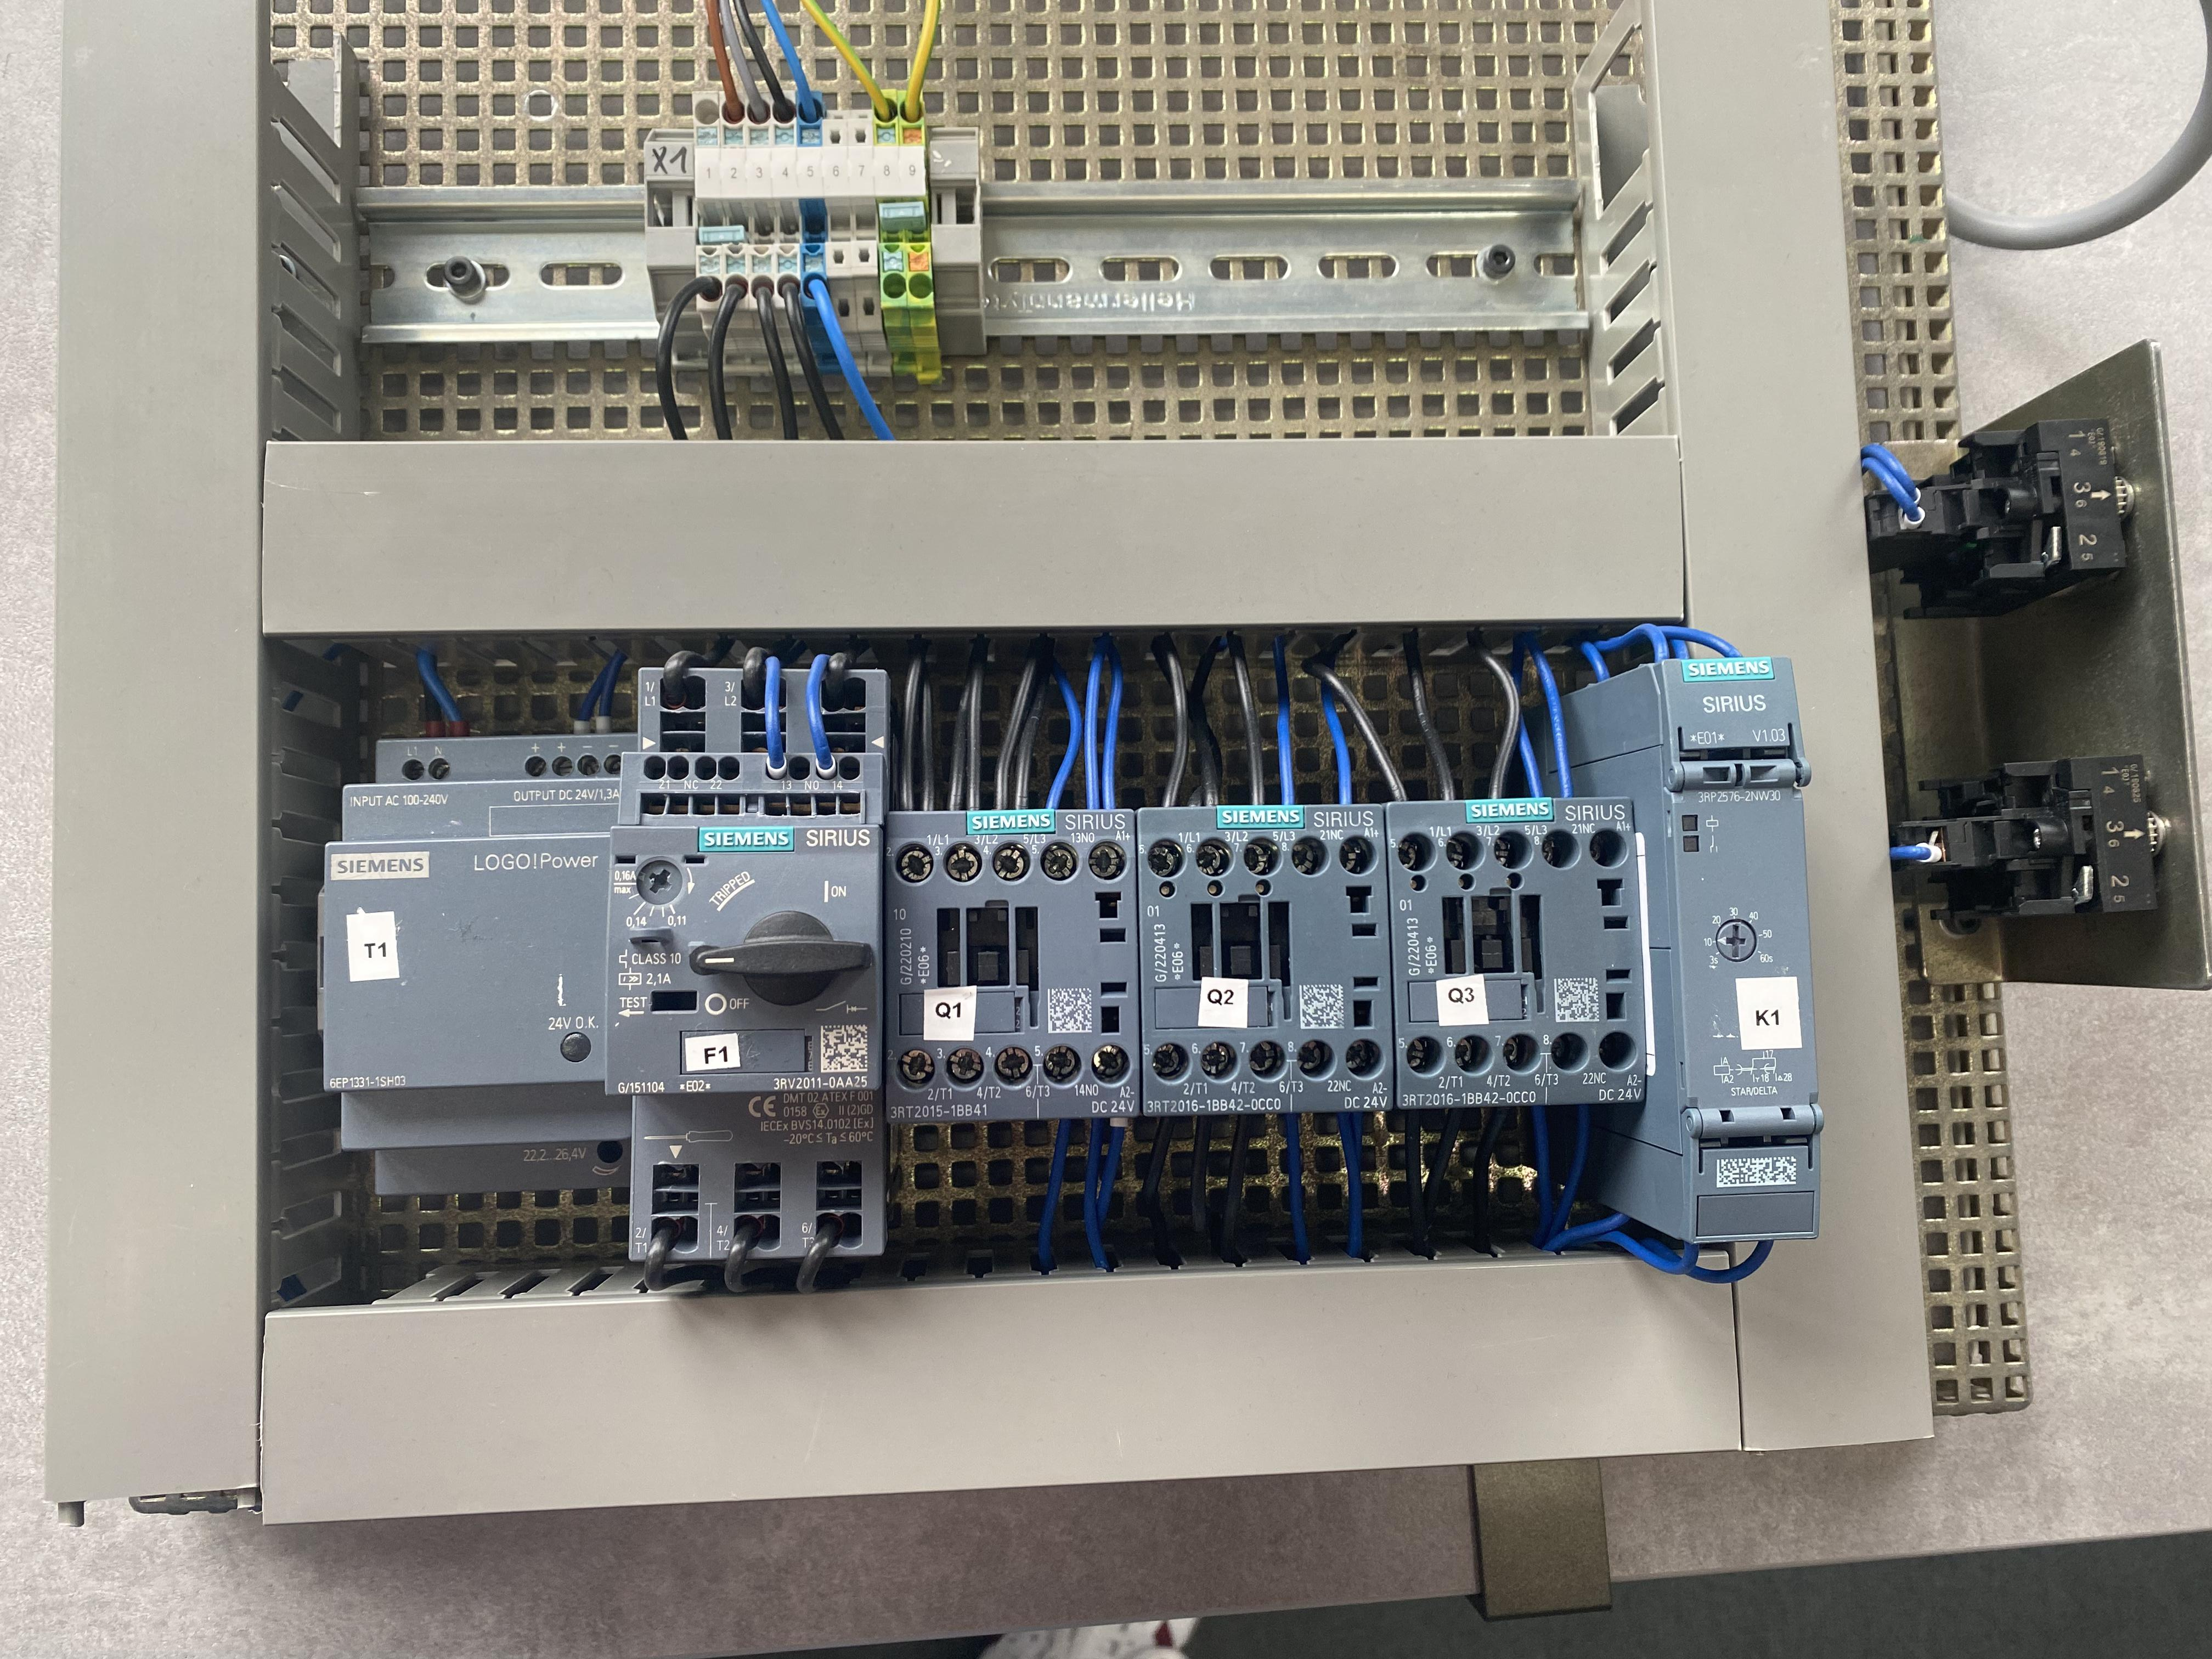F1: (604, 667, 885, 1263)
K1: (1662, 655, 1811, 1244)
Q: (881, 809, 1137, 1127)
Q2: (1139, 800, 1393, 1117)
Q3: (1386, 796, 1644, 1108)
T1: (322, 732, 629, 1195)
X1: (639, 92, 984, 321)
